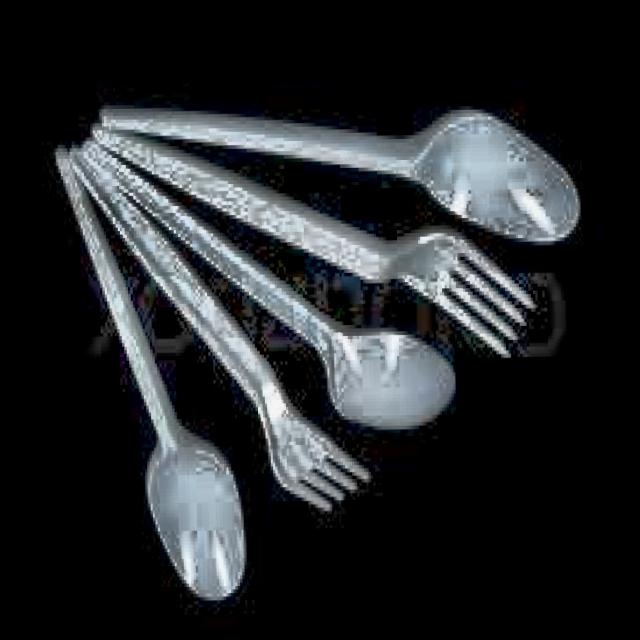plastic utensil: (94, 128, 532, 355), (57, 150, 245, 599), (111, 205, 368, 510), (149, 206, 455, 426), (100, 107, 579, 242), (99, 192, 141, 245)
